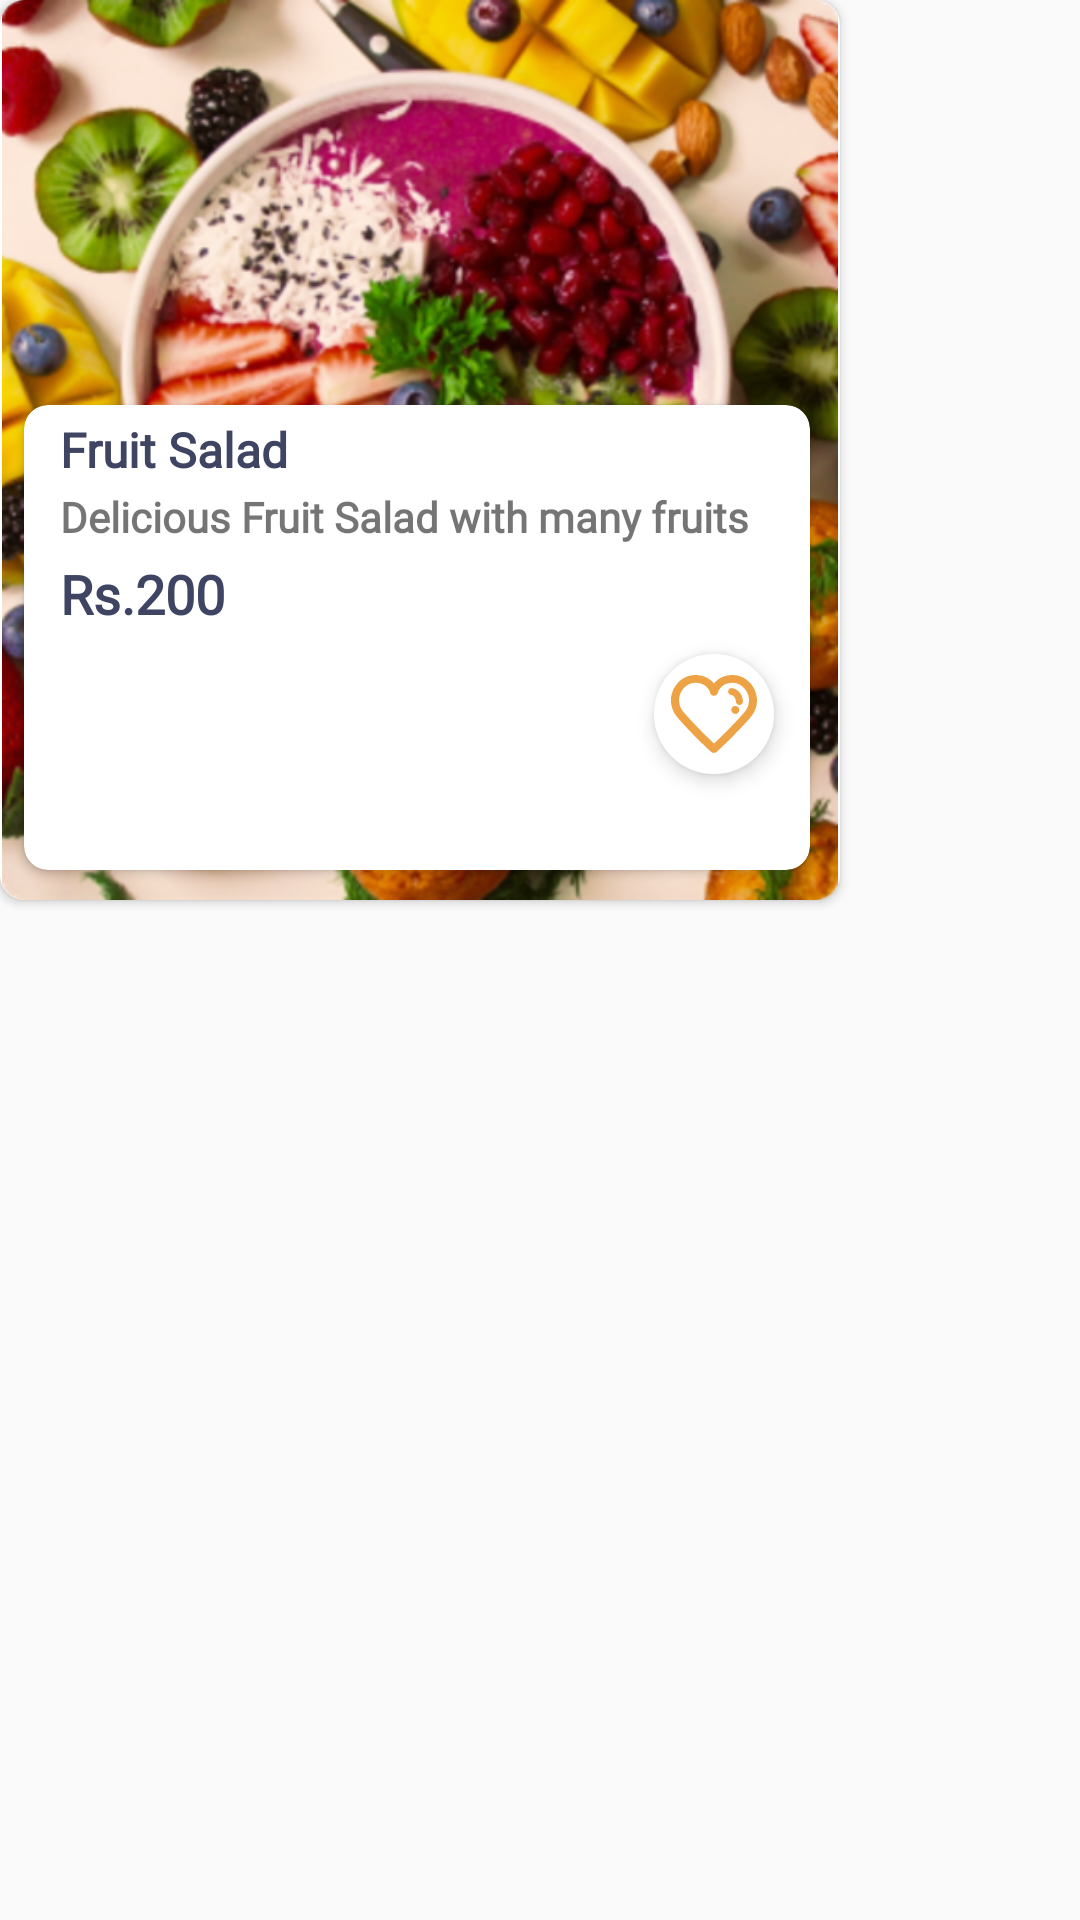

Named icons in this screenshot (1080*1920) and their bounding boxes, box=[x1, y1, x2, y2]:
heart favourite like: box=[661, 675, 774, 774]
